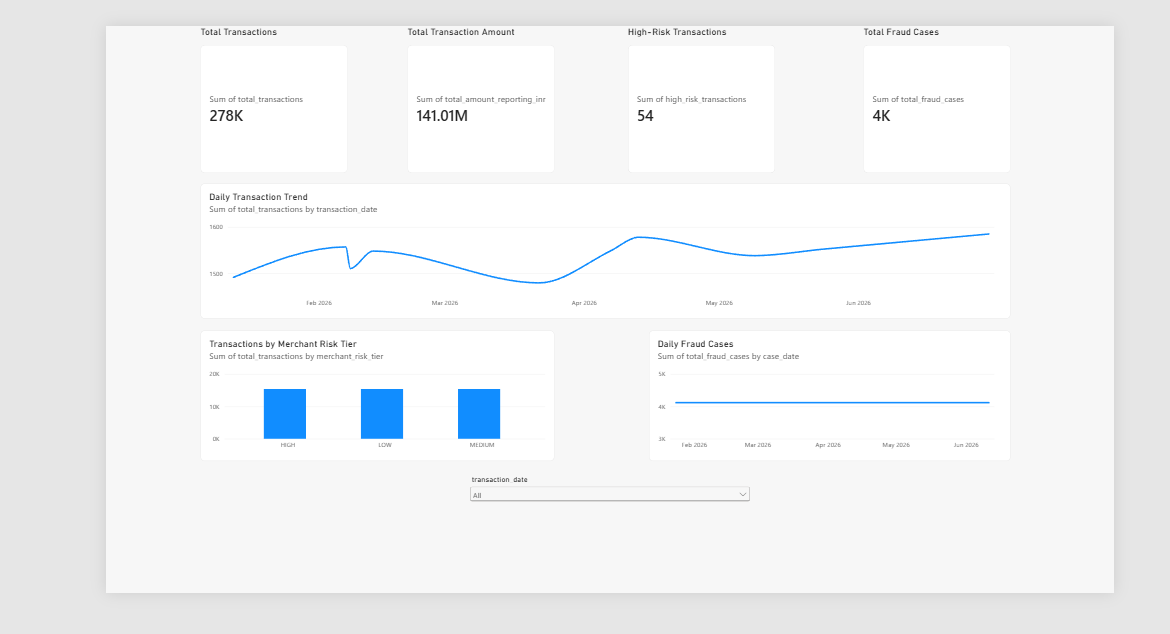

What the dashboard file says about the page in this screenshot:
{"tool":"powerbi","page":{"name":"Fraud & Transaction Risk Overview","canvas":[1920,1080],"ordinal":0},"visuals":[{"type":"cardVisual","title":"Total Transactions","fields":{"Data":["Sum(merchant_risk_tier_summary.total_transactions)"]},"box":[180,0,280,280],"z":0},{"type":"cardVisual","title":"Total Transaction Amount","fields":{"Data":["Sum(daily_transaction_summary.total_amount_reporting_inr)"]},"box":[574.3,0,280,280],"z":1000},{"type":"cardVisual","title":"High-Risk Transactions","fields":{"Data":["Sum(daily_transaction_summary.high_risk_transactions)"]},"box":[994.3,0,280,280],"z":2000},{"type":"cardVisual","title":"Total Fraud Cases","fields":{"Data":["Sum(fraud_summary.total_fraud_cases)"]},"box":[1442.9,0,280,280],"z":3000},{"type":"lineChart","title":"Daily Transaction Trend","fields":{"Category":["daily_transaction_summary.transaction_date"],"Y":["Sum(daily_transaction_summary.total_transactions)"]},"box":[180,300,1542.9,257.1],"z":4000},{"type":"clusteredColumnChart","title":"Transactions by Merchant Risk Tier","fields":{"Category":["merchant_risk_tier_summary.merchant_risk_tier"],"Y":["Sum(daily_transaction_summary.total_transactions)"]},"box":[180,580,674.3,248.6],"z":5000},{"type":"lineChart","title":"Daily Fraud Cases","fields":{"Category":["daily_fraud_summary.case_date"],"Y":["Sum(fraud_summary.total_fraud_cases)"]},"box":[1034.3,580,688.6,248.6],"z":6000},{"type":"slicer","fields":{"Values":["daily_transaction_summary.transaction_date"]},"box":[688.6,854.3,542.9,225.7],"z":7000}]}

Visuals, with their boxes on the page's 1920x1080 design canvas (x1, y1, x2, y2). These are canvas units, not pixel positions in the 1170x634 screenshot, which may show the page scaled, cropped or inside an application window:
"Total Transactions" cardVisual: bbox=[180, 0, 460, 280]
"Total Transaction Amount" cardVisual: bbox=[574, 0, 854, 280]
"High-Risk Transactions" cardVisual: bbox=[994, 0, 1274, 280]
"Total Fraud Cases" cardVisual: bbox=[1443, 0, 1723, 280]
"Daily Transaction Trend" lineChart: bbox=[180, 300, 1723, 557]
"Transactions by Merchant Risk Tier" clusteredColumnChart: bbox=[180, 580, 854, 829]
"Daily Fraud Cases" lineChart: bbox=[1034, 580, 1723, 829]
slicer - daily_transaction_summary.transaction_date: bbox=[689, 854, 1232, 1080]
